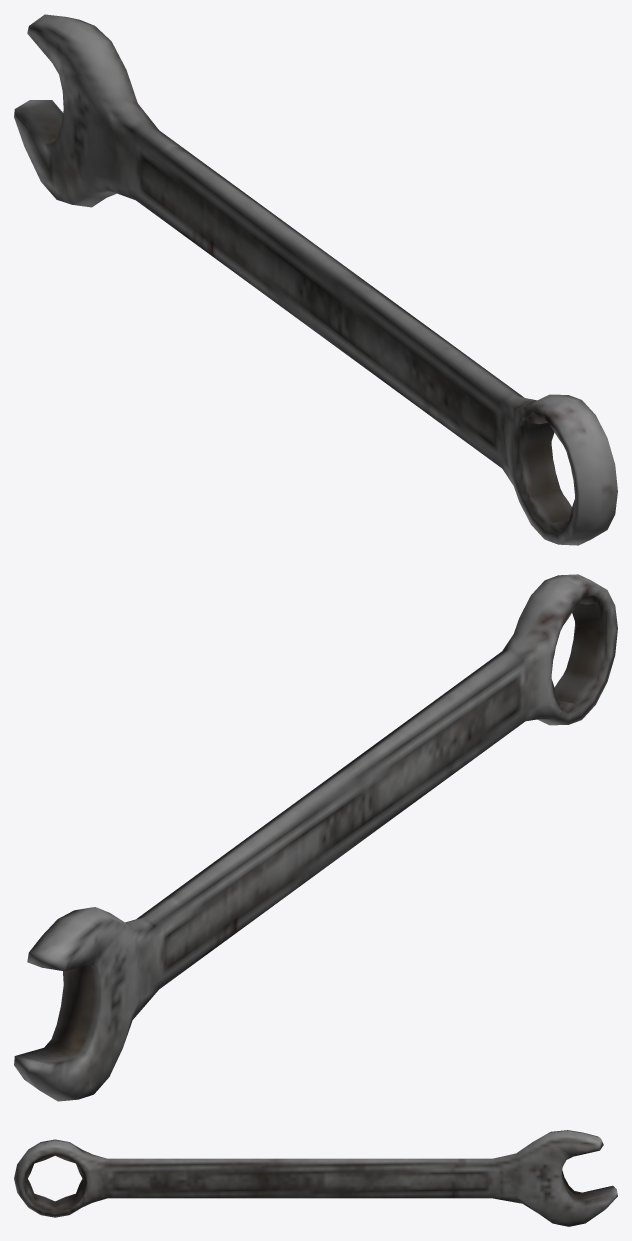
Rendered from Wrench_S_low.obj.
The picture shows the model from 3 angles, top to bottom: view 1: azimuth 30°, elevation 25°; view 2: azimuth 150°, elevation 25°; view 3: azimuth 270°, elevation 25°; orthographic projection. The views are drawn at different scales.
Bounding box in the file's own units: 0.00798 × 0.0367 × 0.2124.
Materials: 1 (1 with a texture image).
